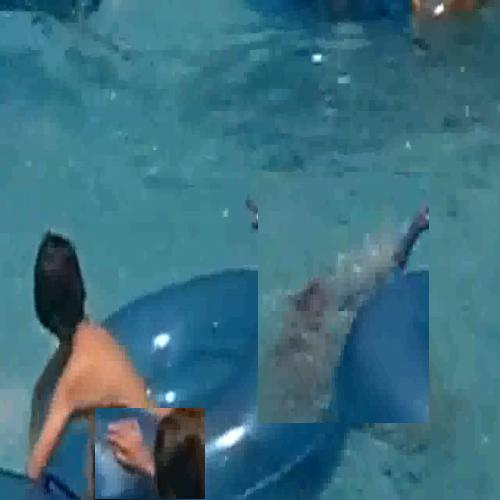drowning: (258, 172, 430, 424)
swimming: (5, 218, 112, 397), (95, 408, 206, 500)
